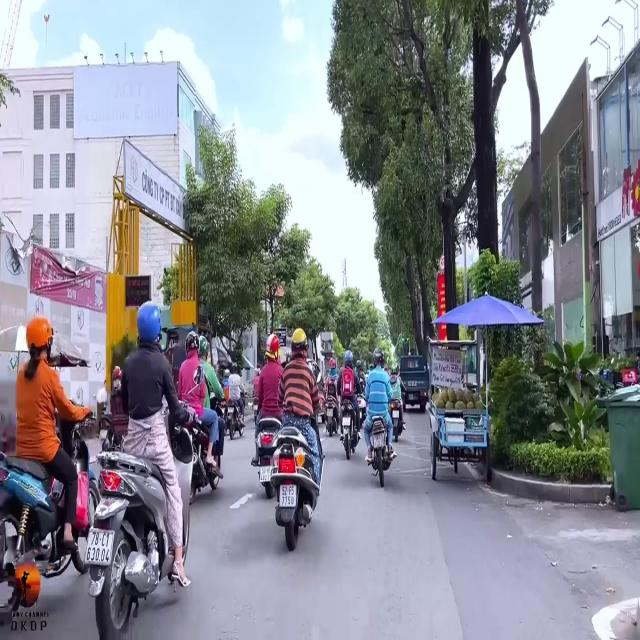bien_trang: (82, 525, 116, 569), (278, 479, 298, 509)
